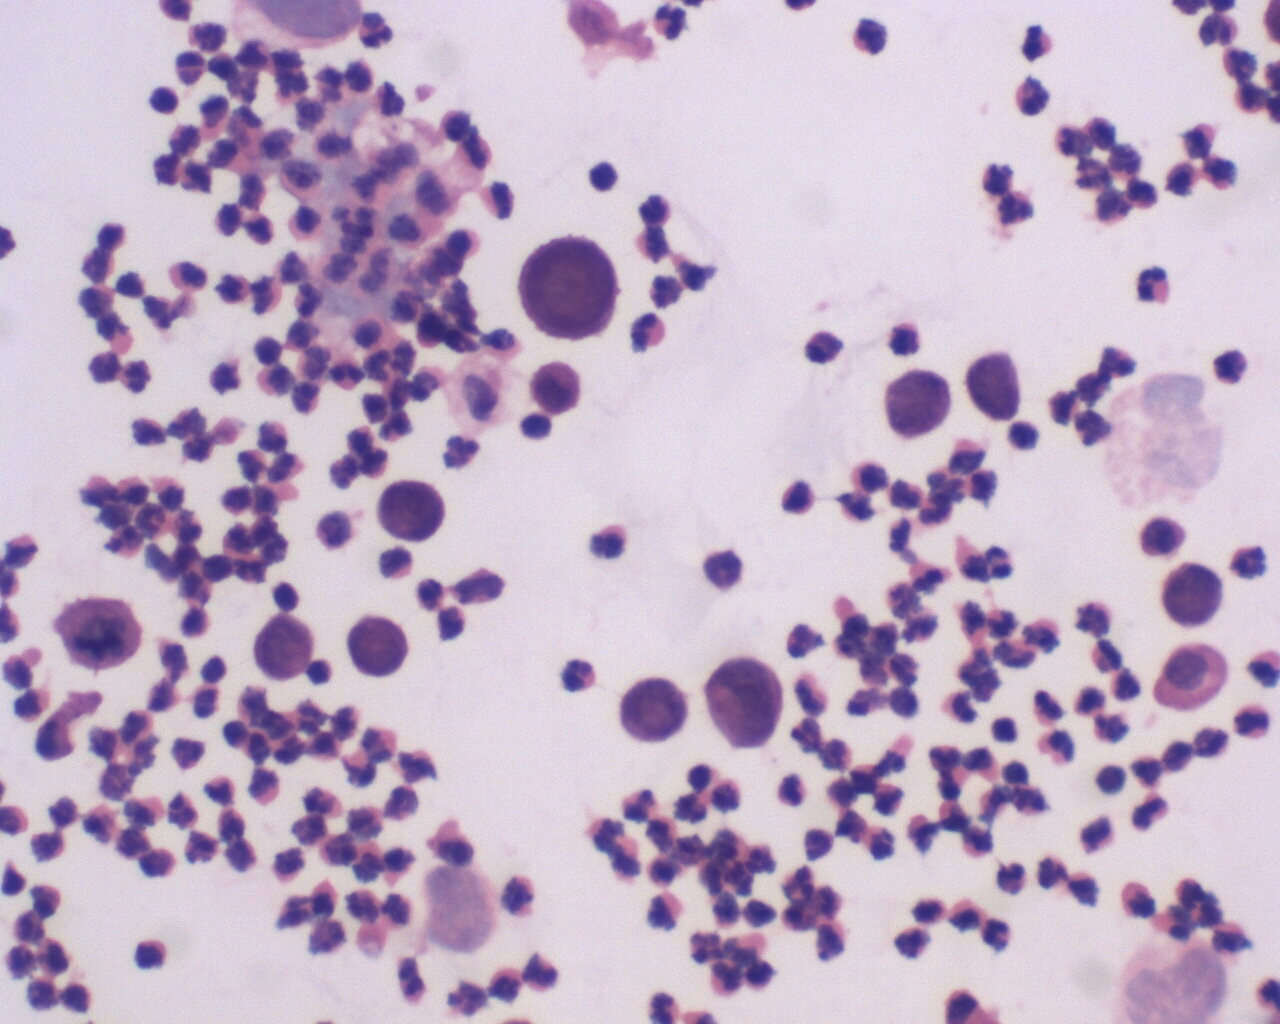ab: (515, 228, 614, 342), (703, 650, 791, 755), (51, 594, 144, 678), (614, 674, 693, 745), (884, 366, 956, 442), (340, 607, 409, 685), (1156, 559, 1233, 628), (373, 478, 450, 545), (965, 350, 1030, 425), (249, 613, 315, 680)
lymph: (516, 410, 558, 447), (250, 335, 286, 372), (587, 159, 623, 196)
neutro: (585, 515, 635, 563), (1011, 70, 1057, 122), (1231, 696, 1276, 748), (626, 309, 671, 356), (557, 656, 601, 700), (1131, 263, 1176, 306), (996, 189, 1041, 232), (1035, 726, 1080, 768), (888, 925, 933, 967), (1210, 345, 1256, 386), (1128, 792, 1172, 834), (652, 2, 694, 45), (1019, 23, 1060, 64), (978, 914, 1018, 956), (356, 8, 395, 50), (129, 409, 166, 451), (162, 792, 203, 831), (116, 352, 153, 395), (523, 949, 557, 995), (327, 353, 366, 392), (775, 768, 811, 809), (798, 822, 835, 861), (288, 282, 325, 316)
